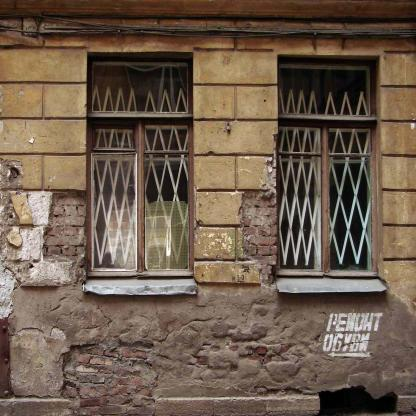Building Outline: (0, 1, 415, 415)
Facade: (0, 1, 415, 415)
Ground Floor: (0, 1, 415, 415)
Sill: (83, 278, 197, 295), (276, 277, 387, 293)
Window: (86, 118, 193, 278), (278, 120, 381, 277), (87, 52, 193, 112), (278, 55, 381, 115)
